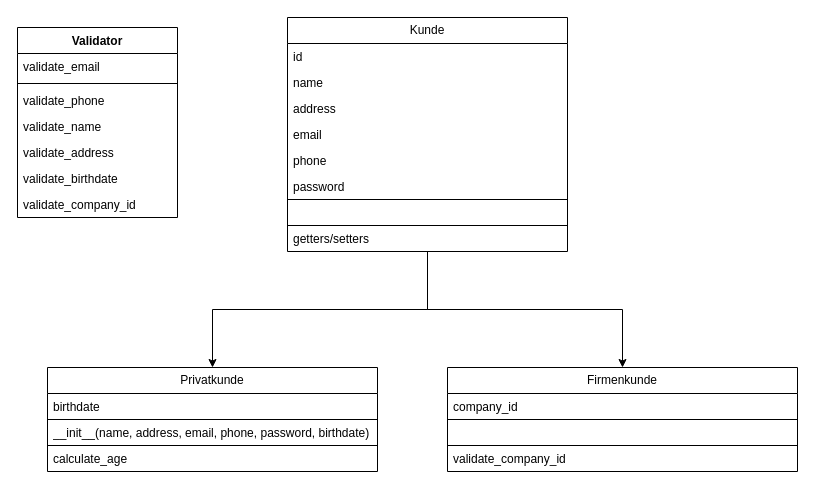
The diagram is 815 pixels wide and 492 high, and some of its shapes have lost their labels. The shapes that lost their labels are listed below. From the top down, each one's centre as x and y in pixels, then its label:
At [427,212]: "__init__(name, address, email, phone, password)".
At [622,432]: "__init__(name, address, email, phone, password, company_id)".
